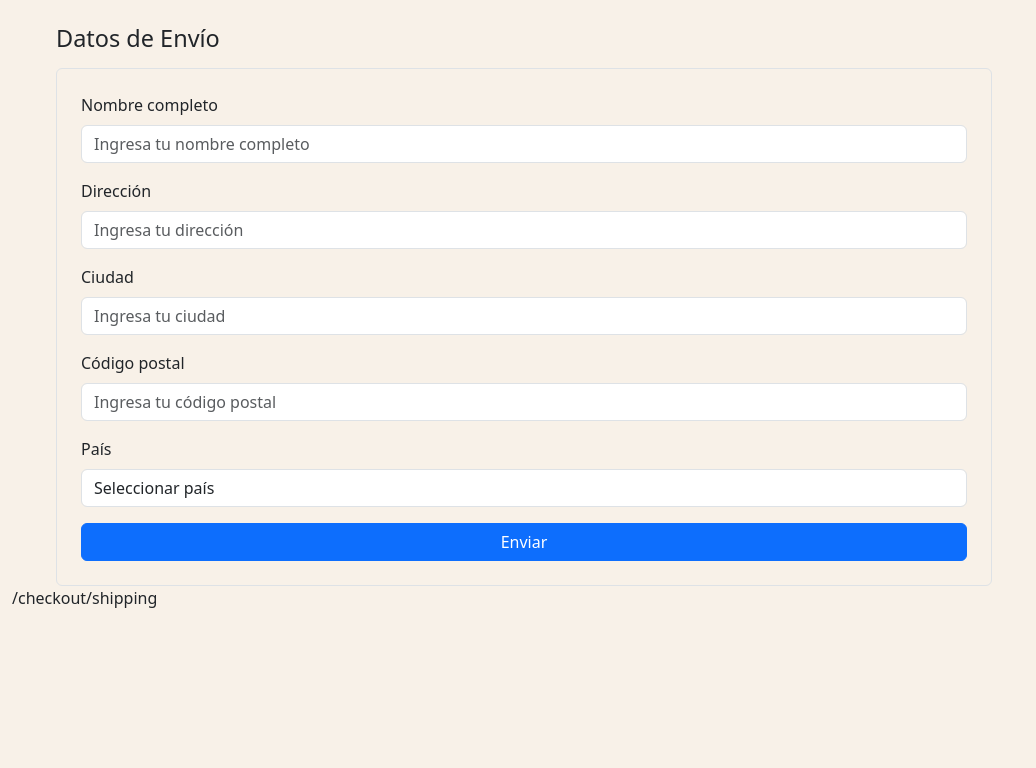
Scenario: ShippingForm › muestra errores de campos requeridos al enviar vacío
The image size is (1036, 768).
What coordinates should you click on to do the following:
click the button "Enviar"
I would click on:
 (524, 542)
Its box is [81,523,967,561].
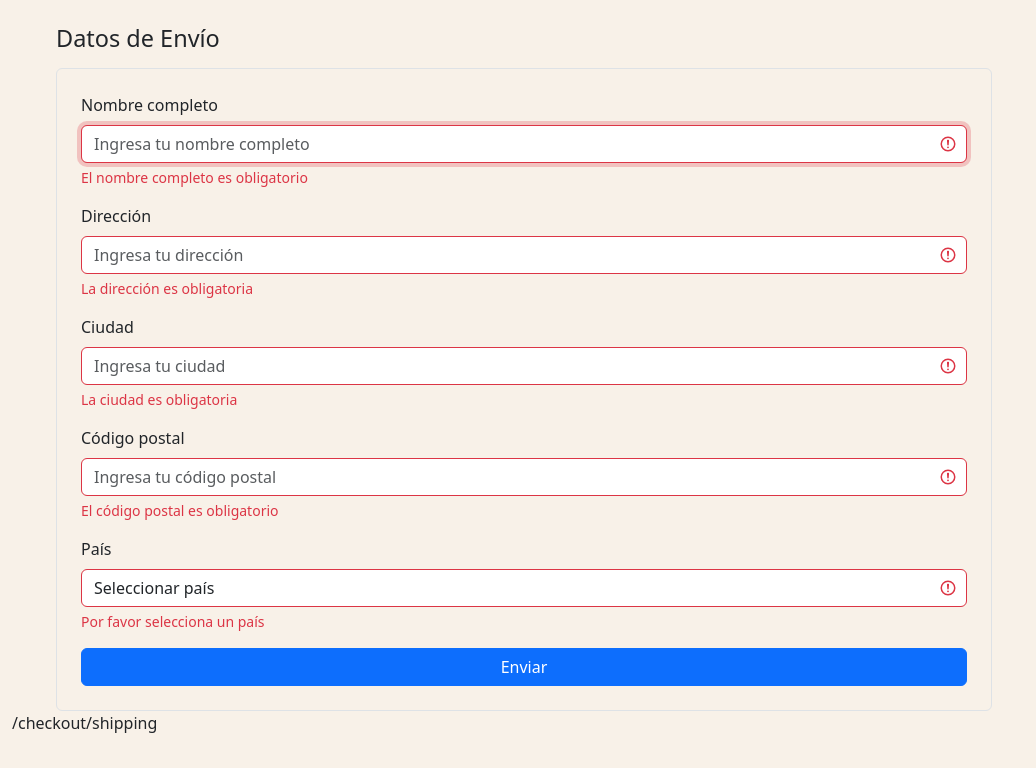
Expected: the text "El nombre completo es obligatorio" is shown, [81,168,308,187]
Expected: the text "La dirección es obligatoria" is shown, [81,279,253,298]
Expected: the text "La ciudad es obligatoria" is shown, [81,390,237,409]
